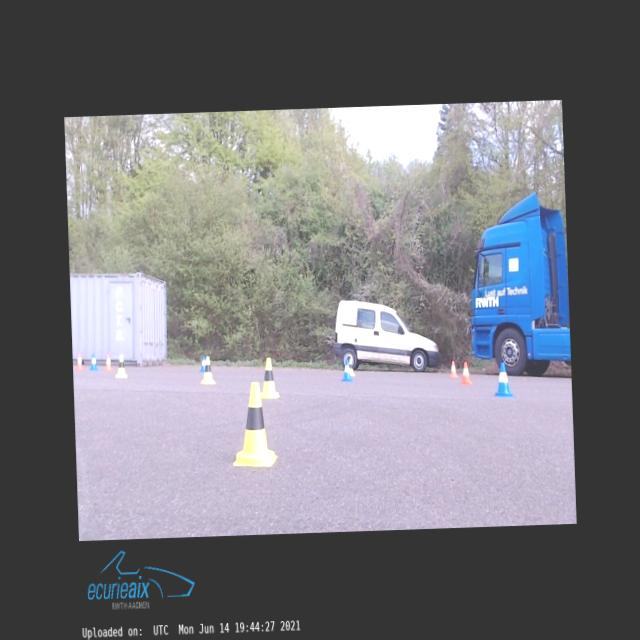blue_cone: (492, 362, 512, 396), (341, 358, 352, 380), (90, 354, 98, 369), (200, 356, 206, 372)
orange_cone: (459, 362, 472, 384), (448, 361, 458, 376), (104, 354, 112, 370), (75, 354, 83, 369)
yellow_cone: (230, 382, 277, 468), (260, 357, 278, 398), (200, 356, 214, 384), (115, 354, 127, 377), (348, 359, 354, 375)
